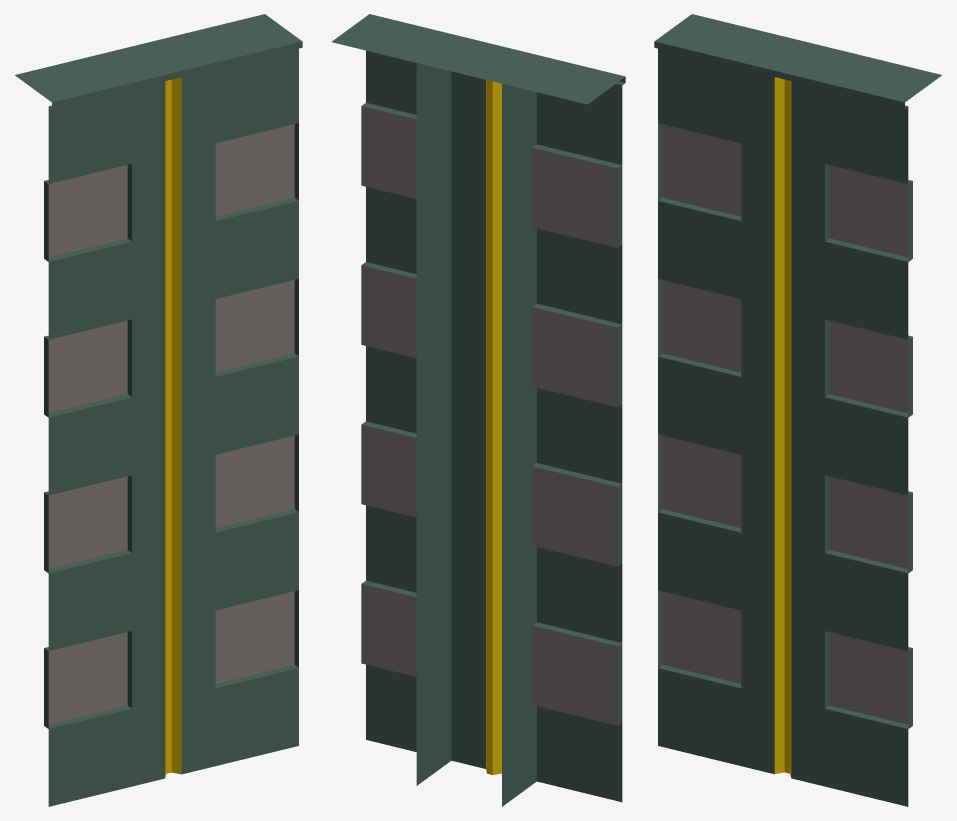
3 renders of one model, left to right at view 1: azimuth 30°, elevation 25°; view 2: azimuth 150°, elevation 25°; view 3: azimuth 330°, elevation 25°, orthographic. The views are drawn at different scales.
Visible parts, largest first — view 1: Column.059; view 2: Column.059; view 3: Column.059.
Boxes of the visible parts, bbox=[...] form: Column.059: bbox=[15, 14, 302, 806]; Column.059: bbox=[332, 14, 625, 806]; Column.059: bbox=[654, 14, 941, 806].
Size of the model in its own units: 835 by 2253 by 217.
